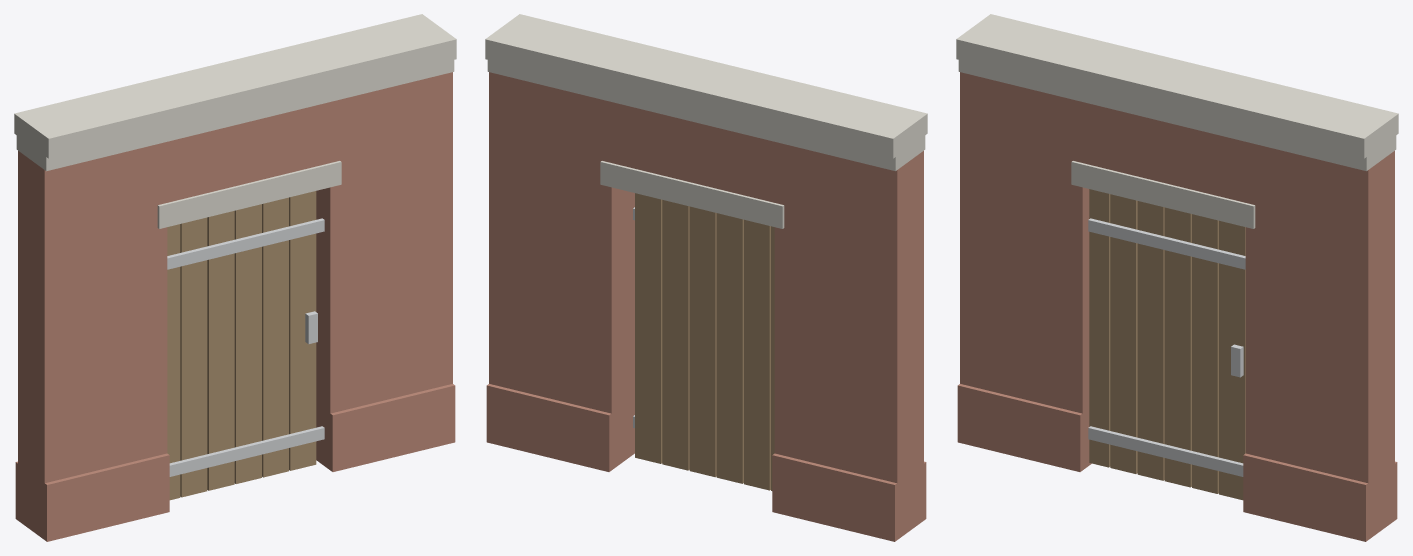
Rendered from botanical-glasshouse-and-palm-house-botanical-glasshou-3dc62c89.glb.
The picture shows the model from 3 angles, left to right: view 1: azimuth 30°, elevation 25°; view 2: azimuth 150°, elevation 25°; view 3: azimuth 330°, elevation 25°; orthographic projection.
Visible parts, largest first — view 1: botanical-glasshouse-and-palm-house-boiler-house-door, door-boiler/timber, door-boiler/steel; view 2: botanical-glasshouse-and-palm-house-boiler-house-door, door-boiler/timber; view 3: botanical-glasshouse-and-palm-house-boiler-house-door, door-boiler/timber, door-boiler/steel.
Part boxes in pixels (x1,y1,x2,y2): botanical-glasshouse-and-palm-house-boiler-house-door: (14,14,456,541); door-boiler/timber: (167,191,316,500); door-boiler/steel: (167,218,324,476); botanical-glasshouse-and-palm-house-boiler-house-door: (485,14,927,541); door-boiler/timber: (635,193,774,490); botanical-glasshouse-and-palm-house-boiler-house-door: (956,14,1398,541); door-boiler/timber: (1089,189,1245,500); door-boiler/steel: (1088,218,1245,476).
Bounding box in the file's own units: 3 × 2.84 × 0.4398.
